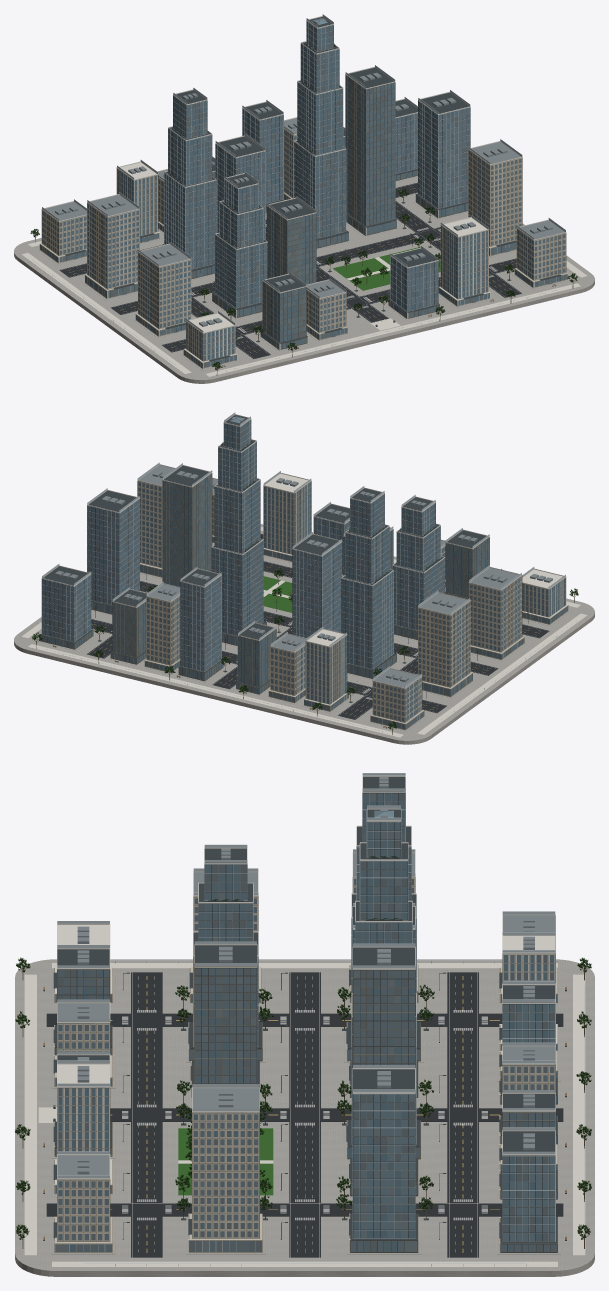
The model's file is city.glb.
3 renders of one model, top to bottom at view 1: azimuth 30°, elevation 25°; view 2: azimuth 150°, elevation 25°; view 3: azimuth 270°, elevation 25°, orthographic. The views are drawn at different scales.
Parts seen in each view (by area): view 1: metro-glass-bronze, metro-glass-blue, metro-bronze-fins, metro-aluminium-fins, metro-paving, metro-window-lit-warm, metro-charcoal-metal, metro-warm-limestone, metro-pale-travertine, metro-glass-silver, metro-window-lit-cool, metro-window-lit-neutral (+8 smaller); view 2: metro-aluminium-fins, metro-glass-blue, metro-glass-bronze, metro-bronze-fins, metro-charcoal-metal, metro-window-lit-warm, metro-pale-travertine, metro-warm-limestone, metro-paving, metro-glass-silver, metro-window-lit-neutral, metro-window-lit-cool (+8 smaller); view 3: metro-paving, metro-asphalt, metro-charcoal-metal, metro-pale-travertine, metro-glass-bronze, metro-aluminium-fins, metro-warm-limestone, metro-window-lit-warm, metro-bronze-fins, metro-glass-blue, metro-glass-silver, metro-roof-equipment (+11 smaller).
Boxes of the visible parts, x1,y1,x2,y2 form: metro-glass-bronze: (40, 81, 567, 367); metro-glass-blue: (117, 21, 487, 360); metro-bronze-fins: (39, 75, 566, 368); metro-aluminium-fins: (38, 14, 576, 371); metro-paving: (14, 176, 594, 379); metro-window-lit-warm: (46, 26, 565, 367); metro-charcoal-metal: (65, 16, 561, 367); metro-warm-limestone: (40, 129, 567, 339); metro-pale-travertine: (21, 16, 587, 376); metro-glass-silver: (215, 18, 470, 310); metro-window-lit-cool: (42, 33, 560, 359); metro-window-lit-neutral: (46, 33, 553, 363); metro-aluminium-fins: (39, 412, 576, 732); metro-glass-blue: (212, 420, 565, 703); metro-glass-bronze: (40, 479, 568, 728); metro-bronze-fins: (40, 473, 568, 729); metro-charcoal-metal: (40, 415, 543, 728); metro-window-lit-warm: (42, 421, 565, 729); metro-pale-travertine: (21, 414, 587, 737); metro-warm-limestone: (137, 481, 524, 730); metro-paving: (14, 524, 594, 740); metro-glass-silver: (42, 416, 348, 671); metro-window-lit-neutral: (42, 425, 559, 718); metro-window-lit-cool: (46, 436, 559, 721); metro-paving: (15, 959, 594, 1270); metro-asphalt: (46, 972, 563, 1257); metro-charcoal-metal: (43, 777, 566, 1252); metro-pale-travertine: (24, 775, 585, 1266); metro-glass-bronze: (55, 887, 557, 1251); metro-aluminium-fins: (57, 773, 584, 1266); metro-warm-limestone: (55, 878, 557, 1252); metro-window-lit-warm: (57, 793, 555, 1251); metro-bronze-fins: (54, 877, 557, 1252); metro-glass-blue: (58, 793, 554, 1151); metro-glass-silver: (353, 810, 555, 1241); metro-roof-equipment: (57, 777, 555, 1175).
Size of the model in its own units: 280 by 142 by 220.
Materials: 26 (7 with a texture image).
